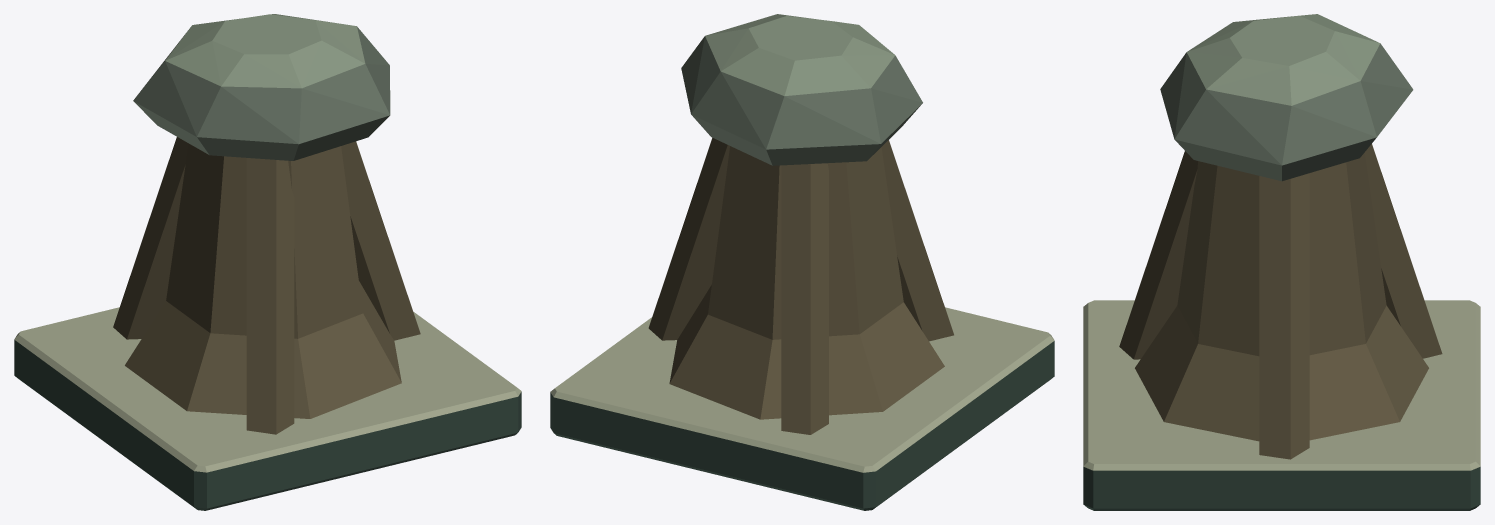
Rendered from pillar-broken.glb.
The picture shows the model from 3 angles, left to right: view 1: azimuth 30°, elevation 25°; view 2: azimuth 150°, elevation 25°; view 3: azimuth 270°, elevation 25°; orthographic projection. The views are drawn at different scales.
Visible parts, largest first — view 1: pillar-broken__body; view 2: pillar-broken__body; view 3: pillar-broken__body.
Part boxes in pixels (x1=…): pillar-broken__body: x1=14, y1=14, x2=521, y2=510; pillar-broken__body: x1=550, y1=14, x2=1054, y2=510; pillar-broken__body: x1=1083, y1=14, x2=1480, y2=510.
Bounding box in the file's own units: 1 × 1.08 × 1.
